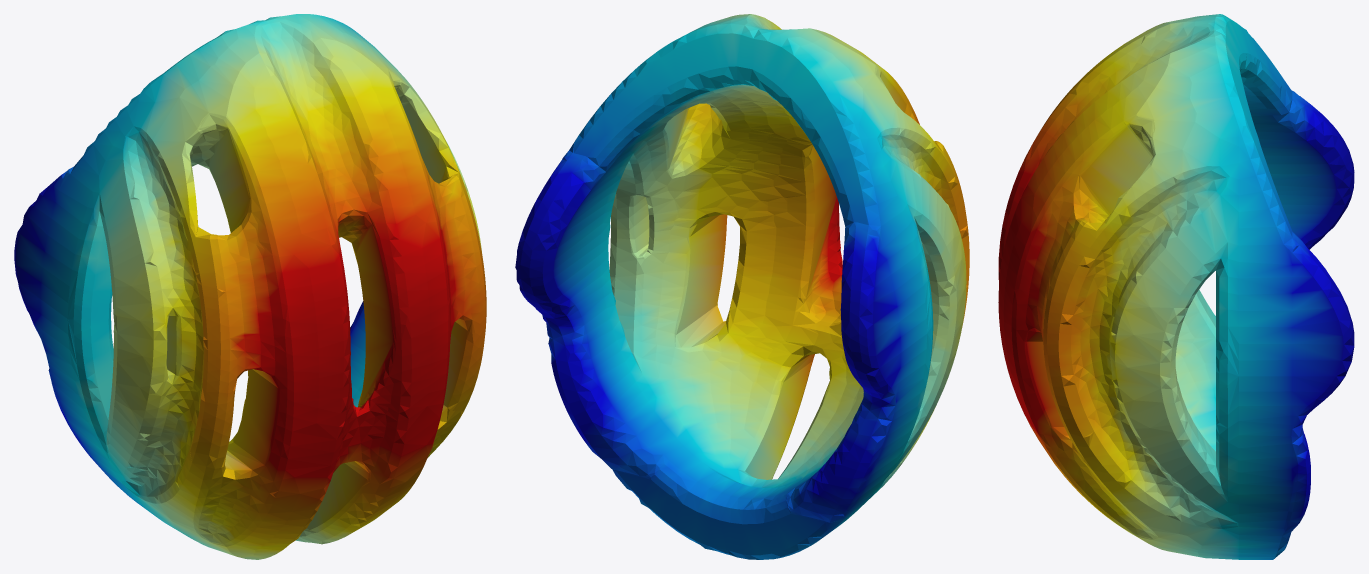
File: helmet.glb
3 renders of one model, left to right at view 1: azimuth 30°, elevation 25°; view 2: azimuth 150°, elevation 25°; view 3: azimuth 270°, elevation 25°, orthographic. The views are drawn at different scales.
Visible parts, largest first — view 1: helmet.obj; view 2: helmet.obj; view 3: helmet.obj.
Part boxes in pixels (x1=…): helmet.obj: x1=14, y1=14, x2=486, y2=559; helmet.obj: x1=515, y1=14, x2=969, y2=559; helmet.obj: x1=998, y1=14, x2=1354, y2=559.
Bounding box in the file's own units: 0.1917 × 0.2572 × 0.1611.
